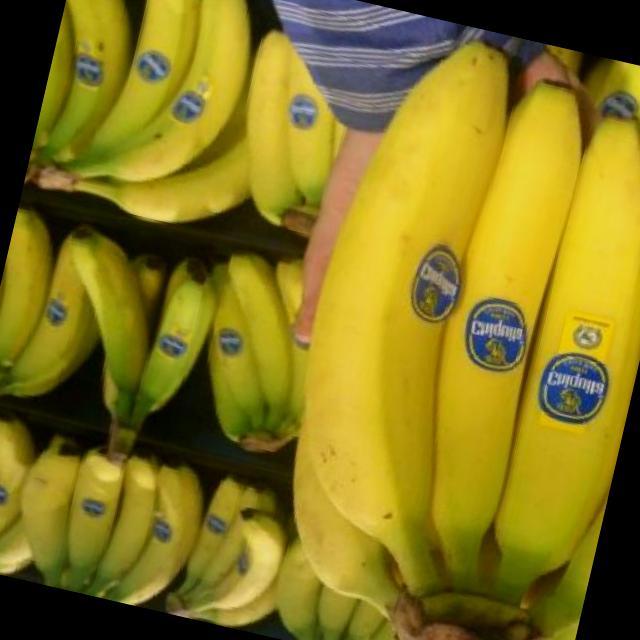Banana: (248, 34, 640, 640), (21, 0, 299, 242), (22, 210, 228, 470), (0, 428, 204, 613), (176, 244, 338, 462), (215, 37, 362, 239), (0, 202, 125, 434), (160, 464, 300, 636), (266, 530, 423, 640), (0, 413, 58, 580)
